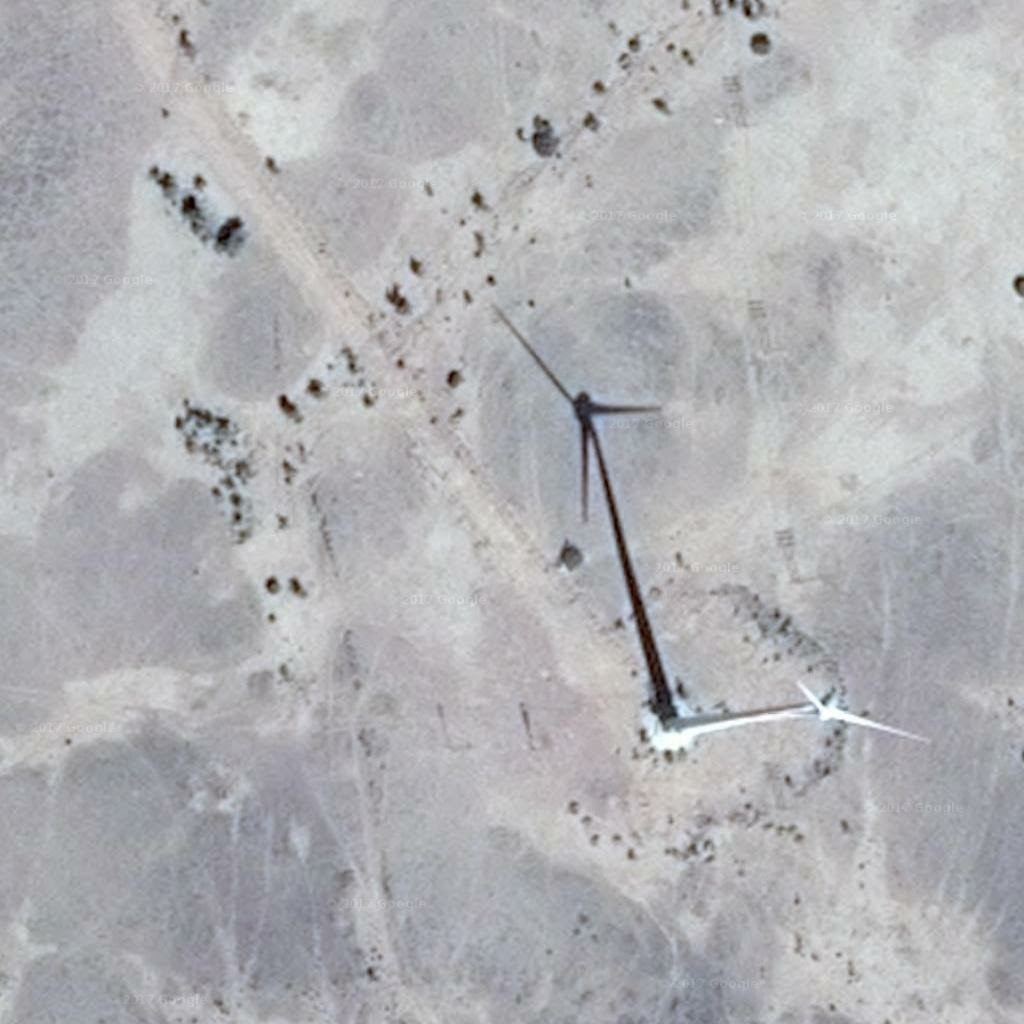Windmill: (491, 303, 691, 709)
